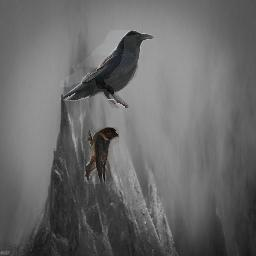Crow: (60, 30, 154, 108)
Swallow: (84, 127, 119, 184)
